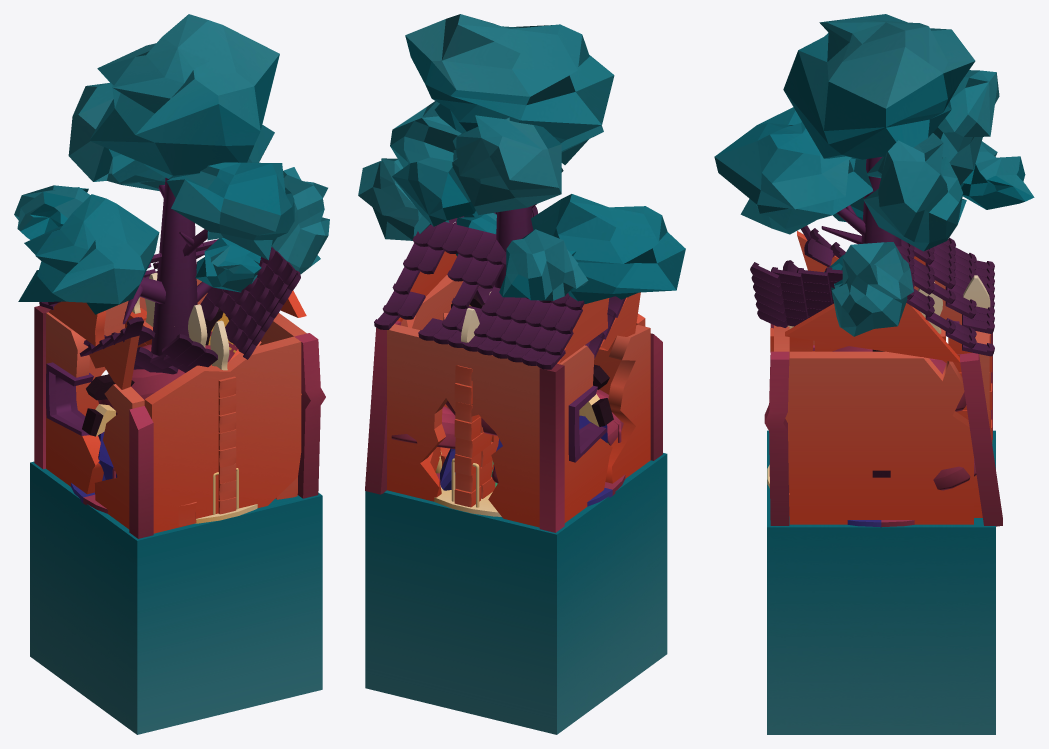
Rendered from EnvironmentAssets.fbx.
The picture shows the model from 3 angles, left to right: view 1: azimuth 30°, elevation 25°; view 2: azimuth 150°, elevation 25°; view 3: azimuth 270°, elevation 25°; orthographic projection. The views are drawn at different scales.
Visible parts, largest first — view 1: Trees, pCube1, Home, Wall, Fence1, SpringHorse1, Mushroom1, polySurface16, Pile; view 2: pCube1, Home, Trees, Wall, polySurface16, Mushroom1, SpringHorse1, Rock3; view 3: Home, Trees, pCube1, Wall, Mushroom1, Fence1.
Part boxes in pixels (x1=…): Trees: x1=14, y1=14, x2=329, y2=355; pCube1: x1=30, y1=461, x2=322, y2=734; Home: x1=34, y1=239, x2=325, y2=538; Wall: x1=125, y1=308, x2=236, y2=514; Fence1: x1=132, y1=272, x2=229, y2=370; SpringHorse1: x1=82, y1=307, x2=237, y2=436; Mushroom1: x1=98, y1=344, x2=234, y2=477; polySurface16: x1=71, y1=467, x2=257, y2=523; Pile: x1=178, y1=477, x2=297, y2=526; pCube1: x1=365, y1=453, x2=667, y2=734; Home: x1=365, y1=206, x2=662, y2=532; Trees: x1=358, y1=14, x2=685, y2=304; Wall: x1=454, y1=365, x2=498, y2=507; polySurface16: x1=434, y1=419, x2=625, y2=516; Mushroom1: x1=391, y1=389, x2=623, y2=483; SpringHorse1: x1=451, y1=293, x2=613, y2=426; Rock3: x1=440, y1=415, x2=607, y2=490; Home: x1=750, y1=225, x2=1002, y2=526; Trees: x1=714, y1=14, x2=1034, y2=336; pCube1: x1=767, y1=430, x2=995, y2=734; Wall: x1=770, y1=328, x2=992, y2=443; Mushroom1: x1=832, y1=346, x2=976, y2=490; Fence1: x1=787, y1=275, x2=990, y2=354.
Size of the model in its own units: 1.66 by 3.27 by 1.4.
